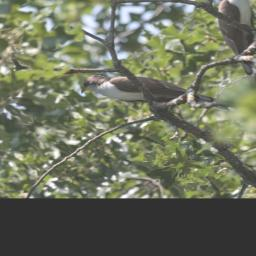Cuckoo: (72, 36, 240, 156)
